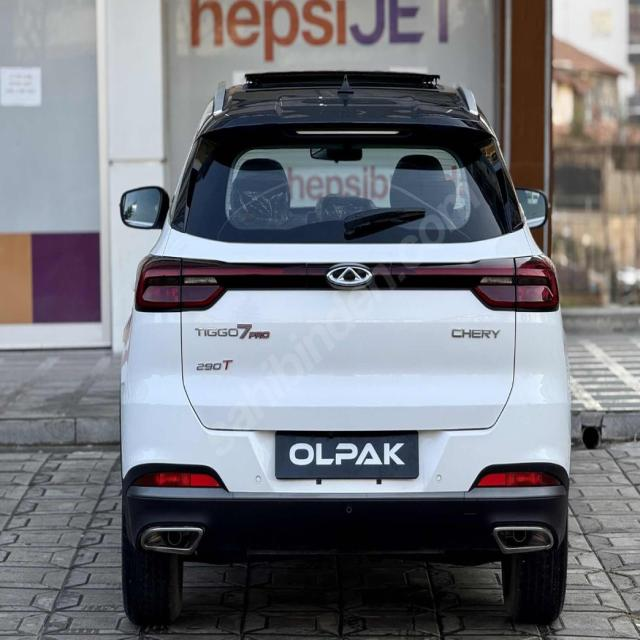cherry: (323, 258, 376, 291)
